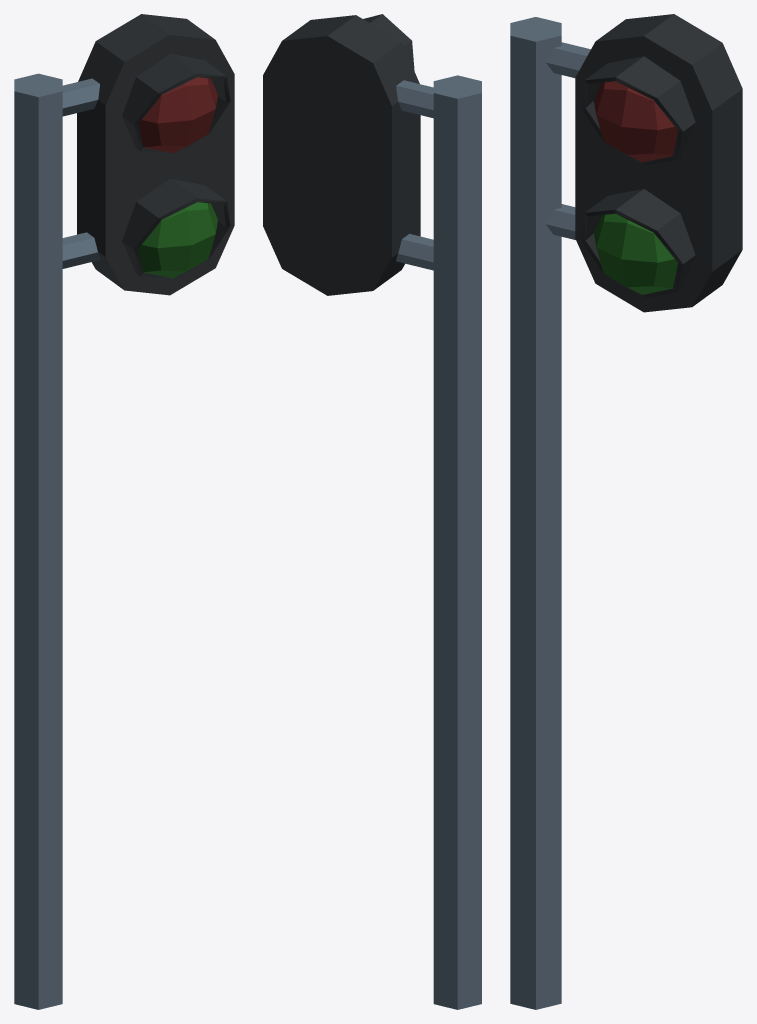
Rendered from TrafficLight.FBX.
3 views of the same model, side by side, from view 1: azimuth 30°, elevation 25°; view 2: azimuth 150°, elevation 25°; view 3: azimuth 330°, elevation 25° (orthographic). The views are drawn at different scales.
Parts seen in each view (by area): view 1: Cylinder001, Cylinder002, Box003, Box004, Cylinder010, Cylinder003, Cylinder005, Cylinder011; view 2: Cylinder001, Cylinder002, Cylinder005, Cylinder011, Cylinder003; view 3: Cylinder001, Cylinder002, Box003, Box004, Cylinder010, Cylinder003, Cylinder005, Cylinder011.
Part boxes in pixels (<box>): Cylinder001: <box>14,73,62,1009</box>; Cylinder002: <box>77,14,234,295</box>; Box003: <box>138,77,217,153</box>; Box004: <box>138,202,217,278</box>; Cylinder010: <box>122,178,230,281</box>; Cylinder003: <box>122,53,230,156</box>; Cylinder005: <box>62,78,99,116</box>; Cylinder011: <box>62,232,100,268</box>; Cylinder001: <box>433,75,481,1009</box>; Cylinder002: <box>263,15,420,295</box>; Cylinder005: <box>396,80,433,118</box>; Cylinder011: <box>396,234,433,270</box>; Cylinder003: <box>363,14,414,70</box>; Cylinder001: <box>510,17,561,1009</box>; Cylinder002: <box>575,14,742,312</box>; Box003: <box>594,81,677,162</box>; Box004: <box>594,213,677,294</box>; Cylinder010: <box>580,189,695,297</box>; Cylinder003: <box>580,56,695,165</box>; Cylinder005: <box>546,42,590,77</box>; Cylinder011: <box>546,204,575,239</box>.
Size of the model in its own units: 0.9463 by 4.16 by 0.444.
